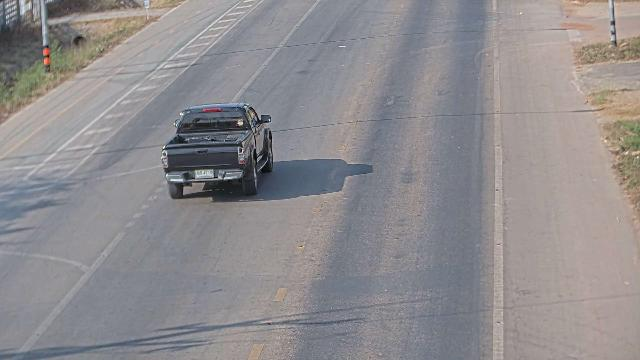pickup-truck: (160, 101, 274, 199)
